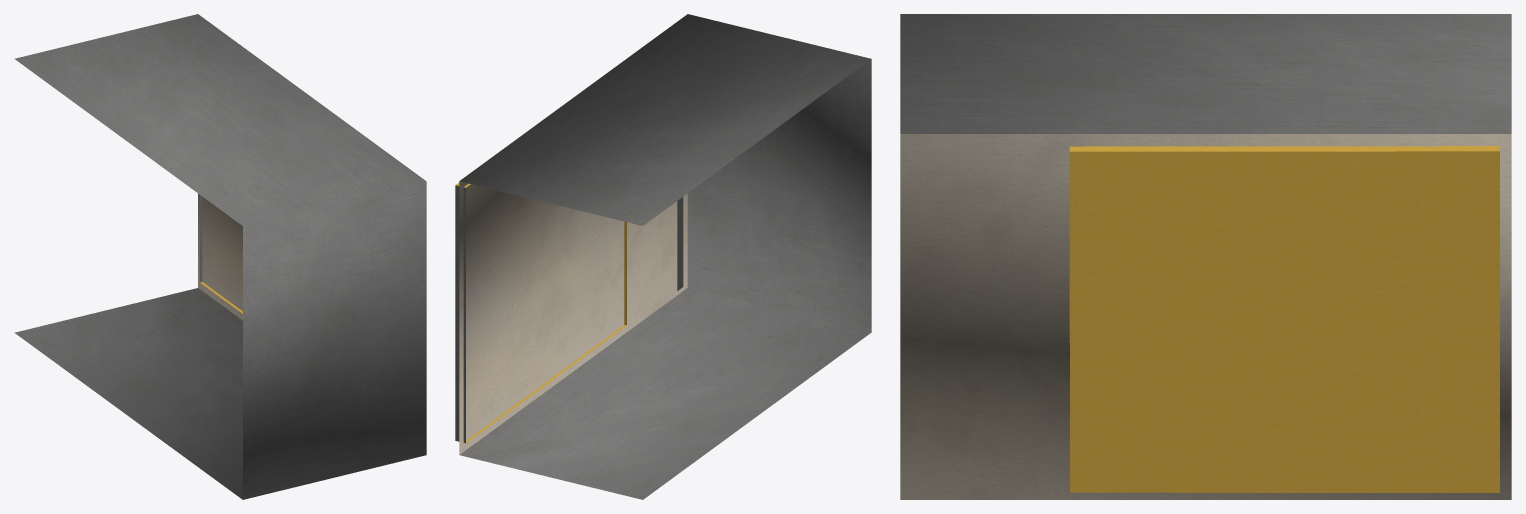
File: nt_2020_food_dispenser_LOD2.obj
3 renders of one model, left to right at view 1: azimuth 30°, elevation 25°; view 2: azimuth 150°, elevation 25°; view 3: azimuth 270°, elevation 25°, orthographic. The views are drawn at different scales.
Parts seen in each view (by area): view 1: metal_stainless_steel_editor, pent_art_wall_creampaint02; view 2: metal_stainless_steel_editor, pent_art_wall_creampaint02, nt_2020_plastic_yellow, mtl_nt_2020_food_disp_decals; view 3: nt_2020_plastic_yellow, pent_art_wall_creampaint02, metal_stainless_steel_editor.
Part boxes in pixels (left/top/right/bottom): metal_stainless_steel_editor: left=14, top=14, right=426, bottom=499; pent_art_wall_creampaint02: left=198, top=193, right=242, bottom=320; metal_stainless_steel_editor: left=455, top=14, right=871, bottom=499; pent_art_wall_creampaint02: left=459, top=181, right=687, bottom=454; nt_2020_plastic_yellow: left=456, top=183, right=626, bottom=442; mtl_nt_2020_food_disp_decals: left=677, top=197, right=683, bottom=290; nt_2020_plastic_yellow: left=1069, top=146, right=1499, bottom=492; pent_art_wall_creampaint02: left=900, top=134, right=1511, bottom=499; metal_stainless_steel_editor: left=900, top=14, right=1511, bottom=133.
Size of the model in its own units: 68.93 by 94.03 by 142.
